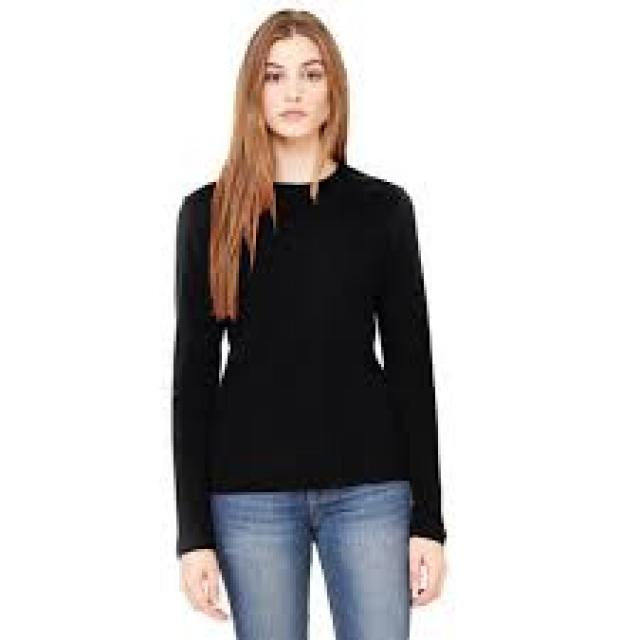plain: (166, 166, 446, 488)
